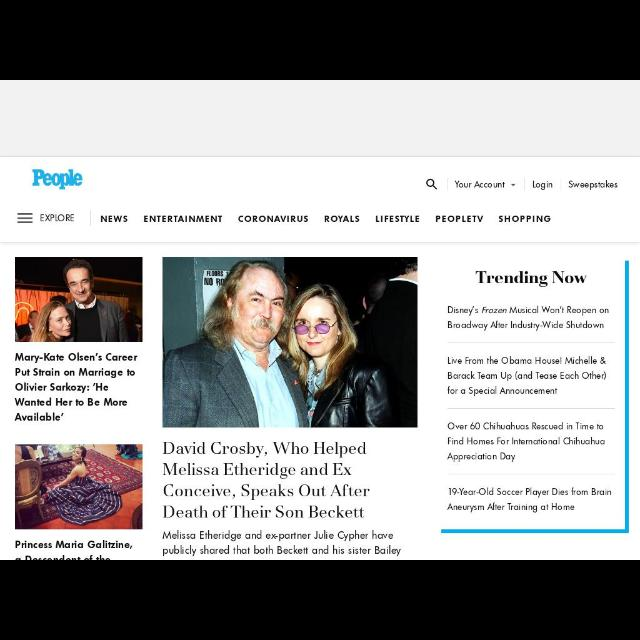icon: (16, 212, 34, 225), (426, 178, 438, 190), (511, 183, 517, 187)
image: (162, 256, 418, 428), (15, 444, 143, 530), (16, 257, 144, 343), (31, 168, 83, 192)
spinner: (16, 212, 76, 226), (454, 180, 516, 188)
text: (163, 440, 371, 520), (14, 352, 138, 422), (446, 421, 606, 464), (447, 355, 608, 395), (162, 530, 402, 556), (448, 486, 612, 514), (447, 305, 609, 331), (16, 539, 132, 559), (475, 270, 587, 288), (143, 214, 223, 223), (568, 179, 618, 191), (238, 215, 310, 223), (497, 214, 551, 223), (454, 180, 506, 188), (434, 215, 484, 223), (375, 215, 421, 223), (324, 215, 361, 223), (39, 214, 75, 222), (100, 215, 128, 223), (532, 180, 554, 190)
toolbar: (1, 156, 640, 244)
